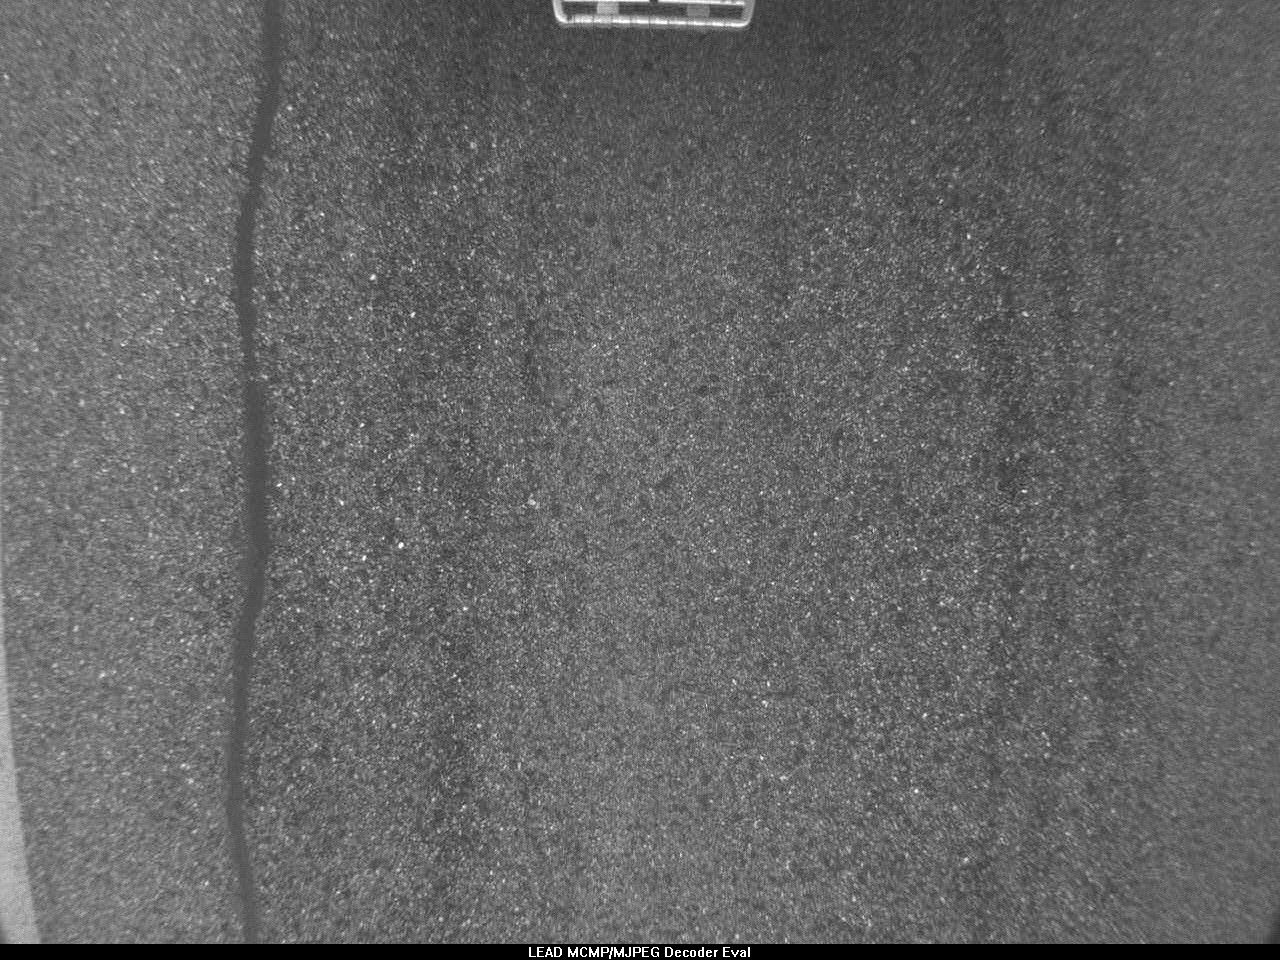sealed: (209, 6, 311, 936)
